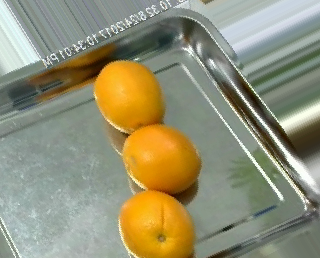Orange: (121, 123, 200, 197), (92, 58, 165, 135), (119, 189, 197, 258)
